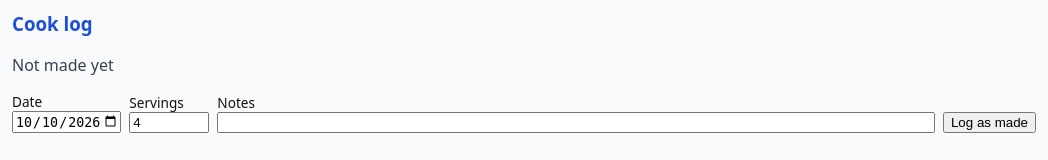
Test: CookLogPanel.vue › rejects invalid servings
Replace the text in the number field labelled "Servings" with "0" at (169, 122), box [129,112,209,133]
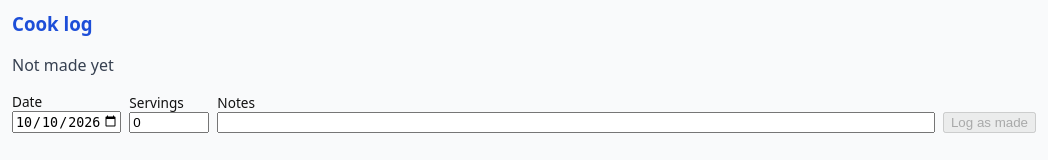
Expected: the submit button is disabled, [943,112,1036,133]
